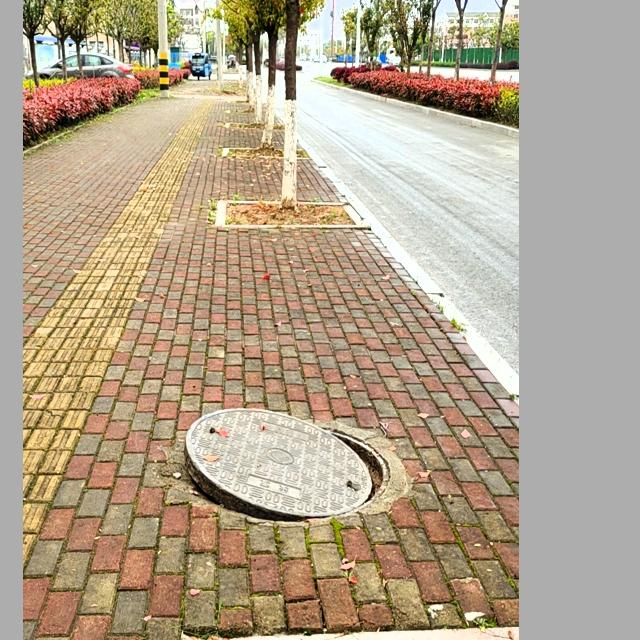uncovered: (180, 409, 410, 526)
